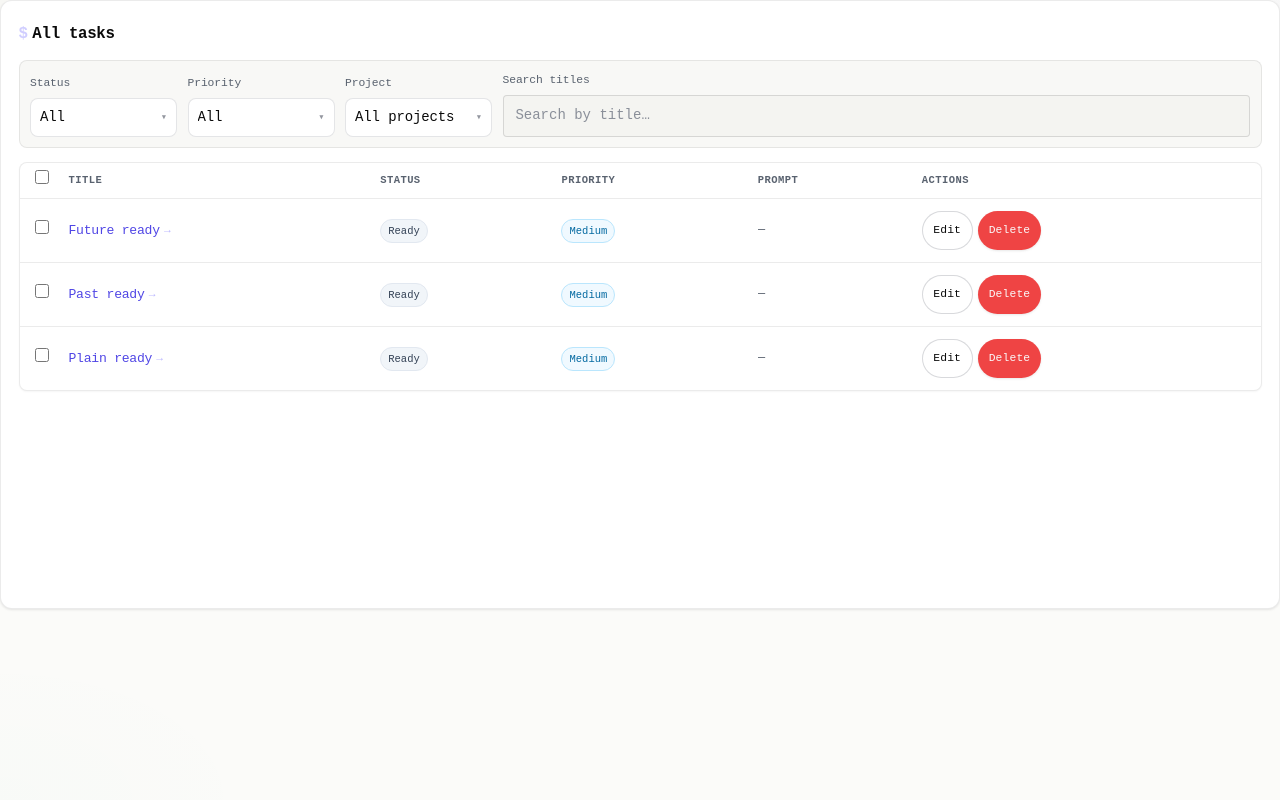
Scenario: TaskListSection › bulk reschedule › Scheduled (deferred) filter limits rows to ready+future
The width and height of the screenshot is (1280, 800).
Click the dropdown named "status": (104, 117) [30, 98, 177, 137]
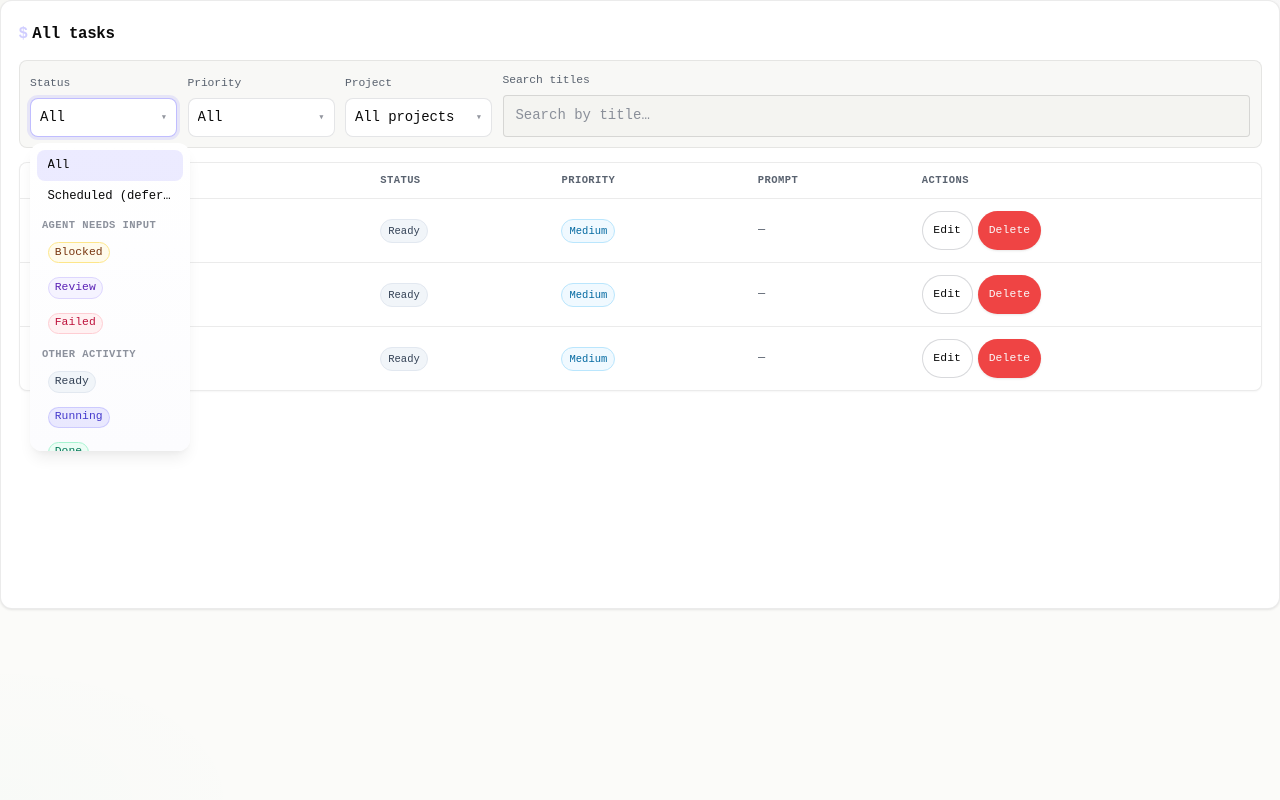
Click the option "Scheduled (deferred)": (120, 196) [48, 189, 192, 203]
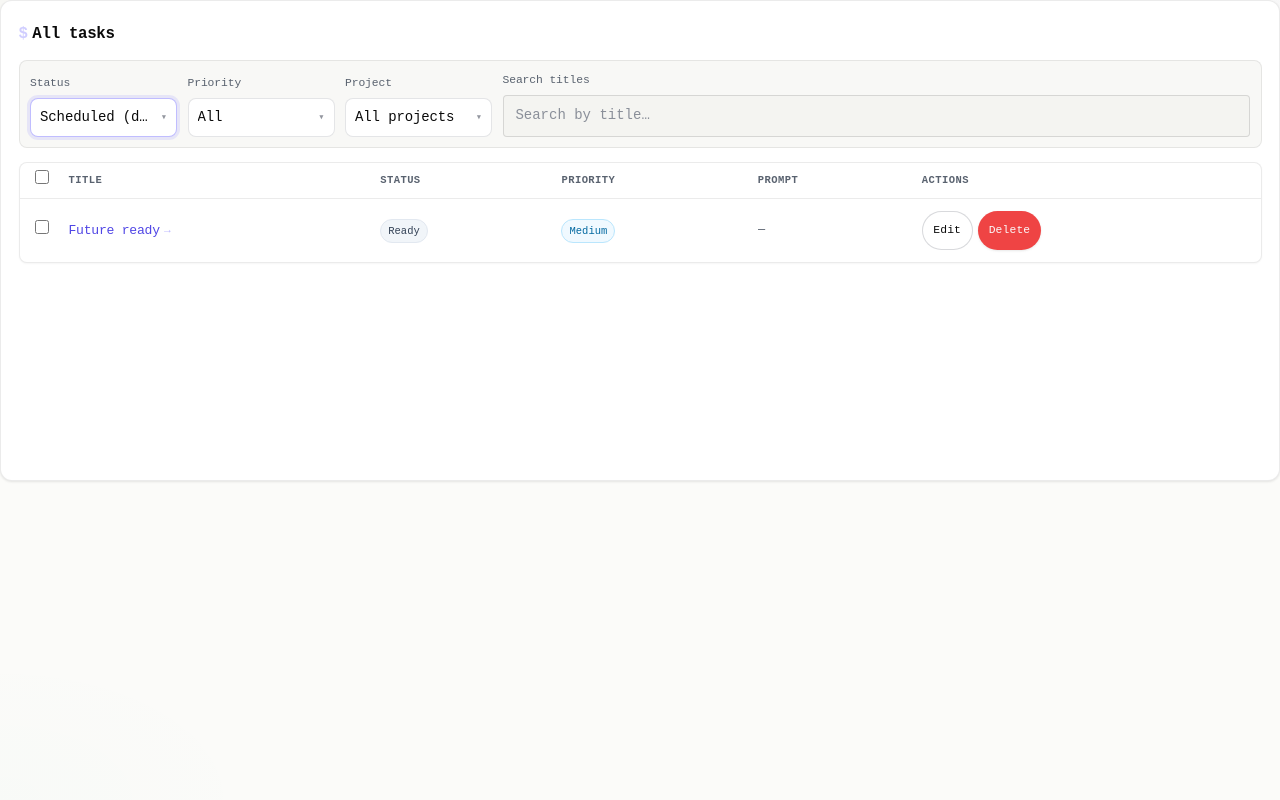
Expected: the text "Future ready" is shown, [68, 220, 160, 241]
Now the link "Past ready" is gone
Now the link "Plain ready" is gone
